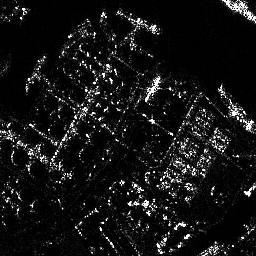ship: (218, 86, 256, 133), (117, 8, 160, 36), (222, 1, 256, 27), (144, 74, 161, 103)
